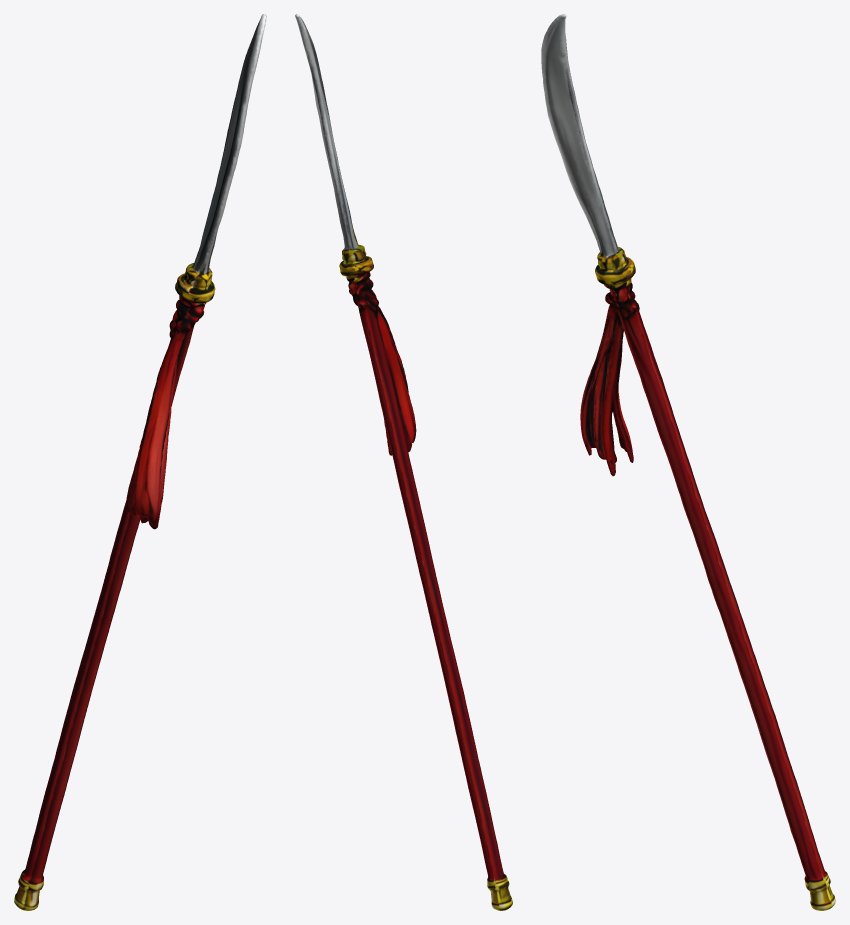
The model's file is _prop.glb.
3 renders of one model, left to right at view 1: azimuth 30°, elevation 25°; view 2: azimuth 210°, elevation 25°; view 3: azimuth 270°, elevation 25°, orthographic. The views are drawn at different scales.
Parts seen in each view (by area): view 1: tripo_node_669ef83f-60d4-4364-b1c2-3da5bf61a831; view 2: tripo_node_669ef83f-60d4-4364-b1c2-3da5bf61a831; view 3: tripo_node_669ef83f-60d4-4364-b1c2-3da5bf61a831.
Boxes of the visible parts, x1,y1,x2,y2 form: tripo_node_669ef83f-60d4-4364-b1c2-3da5bf61a831: (14,14,266,910); tripo_node_669ef83f-60d4-4364-b1c2-3da5bf61a831: (295,14,512,910); tripo_node_669ef83f-60d4-4364-b1c2-3da5bf61a831: (541,14,835,910).
Size of the model in its own units: 0.1275 by 1 by 0.2824.
1 material, 1 textured.
